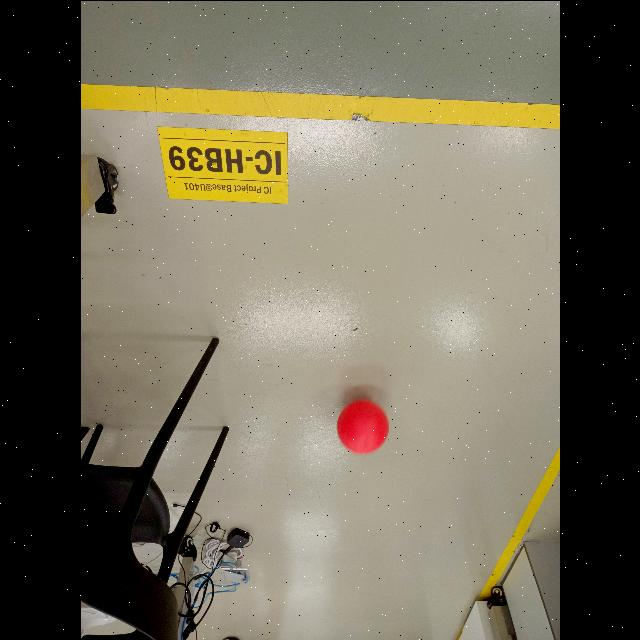R: (332, 400, 392, 456)
